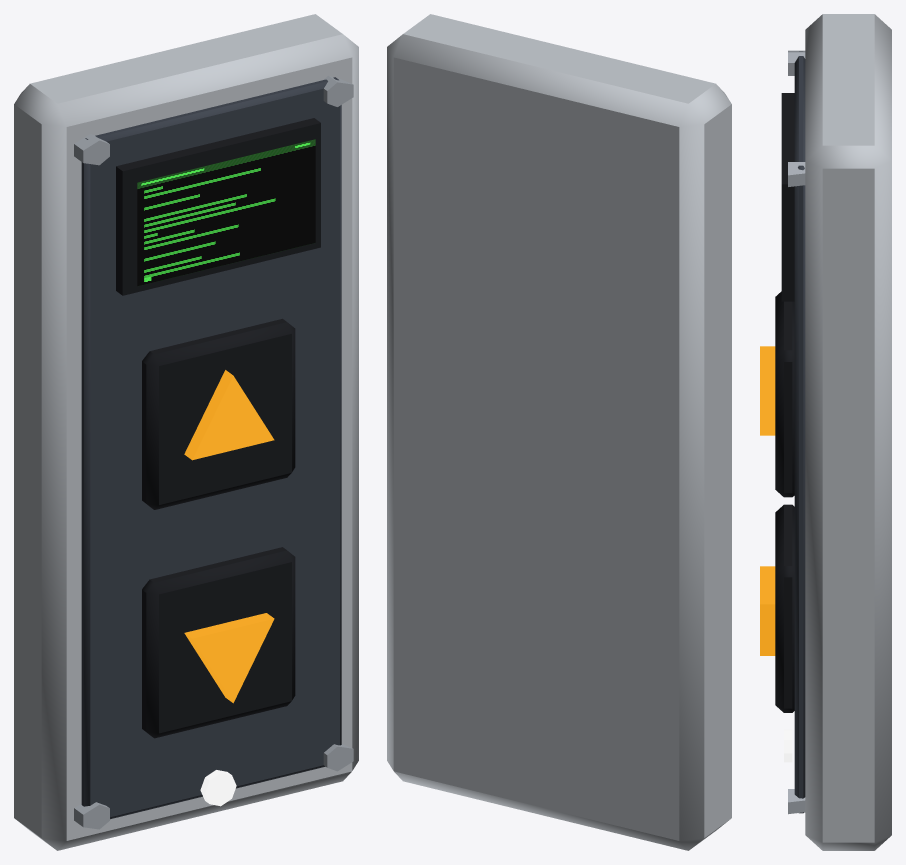
Rendered from controlpanel_lift_call.glb.
The picture shows the model from 3 angles, left to right: view 1: azimuth 30°, elevation 25°; view 2: azimuth 150°, elevation 25°; view 3: azimuth 270°, elevation 25°; orthographic projection. The views are drawn at different scales.
Parts seen in each view (by area): view 1: controlpanel_lift_call; view 2: controlpanel_lift_call; view 3: controlpanel_lift_call.
Boxes of the visible parts, bbox=[...] form: controlpanel_lift_call: bbox=[14, 14, 358, 850]; controlpanel_lift_call: bbox=[387, 14, 731, 850]; controlpanel_lift_call: bbox=[760, 14, 891, 850].
Size of the model in its own units: 0.16 by 0.36 by 0.061.
7 materials, 1 textured.
